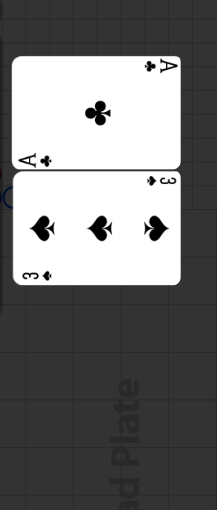3S: (21, 269, 54, 282)
AC: (139, 59, 178, 76)
